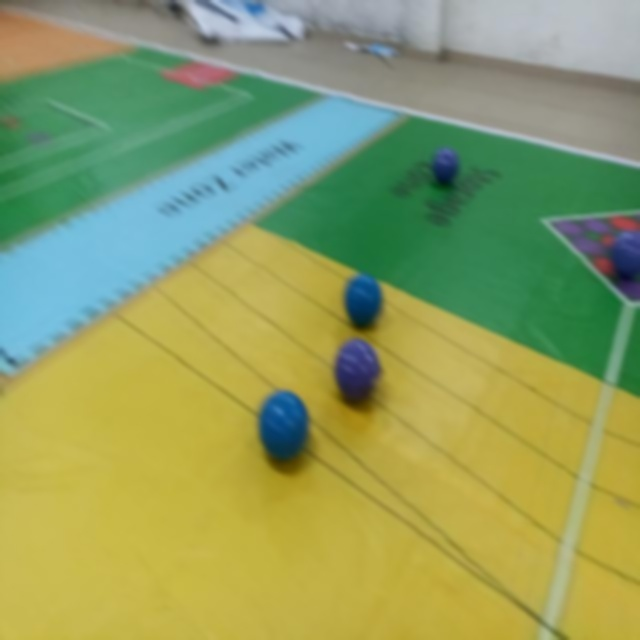blue_ball: (258, 384, 315, 469), (345, 266, 384, 332)
purple_ball: (328, 332, 384, 409), (611, 222, 640, 290), (429, 137, 462, 187)
